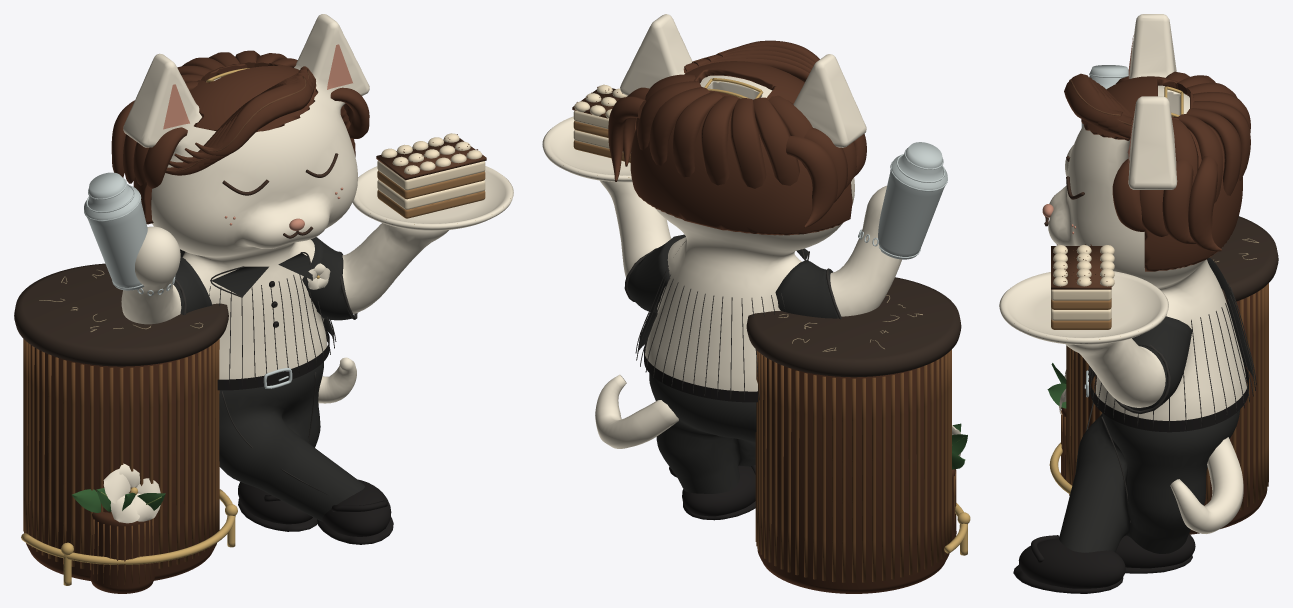
Rendered from pay-clink.v2.glb.
The picture shows the model from 3 angles, left to right: view 1: azimuth 30°, elevation 25°; view 2: azimuth 150°, elevation 25°; view 3: azimuth 270°, elevation 25°; orthographic projection. The views are drawn at different scales.
Parts seen in each view (by area): view 1: Clink | Ivory_Glaze, Clink | Walnut, Clink | Walnut_Ridges, Clink | Charcoal_Cloth, Clink | Chestnut_Hair, Clink | Marble, Clink | Black_Leather, Clink | Silver, Clink | Mascarpone, Clink | Antique_Gold, Clink | Seam_Charcoal, Clink | Coffee_Biscuit (+3 smaller); view 2: Clink | Ivory_Glaze, Clink | Chestnut_Hair, Clink | Walnut, Clink | Walnut_Ridges, Clink | Marble, Clink | Charcoal_Cloth, Clink | Silver, Clink | Black_Leather, Clink | Seam_Charcoal, Clink | Mascarpone, Clink | Antique_Gold, Clink | Coffee_Biscuit; view 3: Clink | Ivory_Glaze, Clink | Chestnut_Hair, Clink | Charcoal_Cloth, Clink | Black_Leather, Clink | Walnut_Ridges, Clink | Walnut, Clink | Marble, Clink | Mascarpone, Clink | Seam_Charcoal, Clink | Cocoa, Clink | Coffee_Biscuit, Clink | Silver (+2 smaller).
Part boxes in pixels (x1,y1,x2,y2): Clink | Ivory_Glaze: [103, 14, 513, 523]; Clink | Walnut: [26, 345, 216, 593]; Clink | Walnut_Ridges: [23, 339, 219, 585]; Clink | Charcoal_Cloth: [173, 237, 364, 521]; Clink | Chestnut_Hair: [111, 50, 369, 224]; Clink | Marble: [14, 263, 228, 366]; Clink | Black_Leather: [217, 281, 393, 544]; Clink | Silver: [84, 172, 292, 388]; Clink | Mascarpone: [377, 133, 485, 209]; Clink | Antique_Gold: [21, 68, 510, 585]; Clink | Seam_Charcoal: [174, 251, 357, 494]; Clink | Coffee_Biscuit: [377, 170, 485, 218]; Clink | Ivory_Glaze: [542, 14, 960, 456]; Clink | Chestnut_Hair: [608, 40, 866, 235]; Clink | Walnut: [757, 353, 956, 593]; Clink | Walnut_Ridges: [755, 349, 956, 582]; Clink | Marble: [746, 277, 961, 377]; Clink | Charcoal_Cloth: [627, 234, 838, 519]; Clink | Silver: [858, 142, 947, 259]; Clink | Black_Leather: [644, 342, 757, 520]; Clink | Seam_Charcoal: [624, 249, 841, 400]; Clink | Mascarpone: [573, 84, 627, 151]; Clink | Antique_Gold: [544, 78, 970, 555]; Clink | Coffee_Biscuit: [573, 121, 630, 162]; Clink | Ivory_Glaze: [999, 14, 1246, 533]; Clink | Chestnut_Hair: [1064, 71, 1250, 271]; Clink | Charcoal_Cloth: [1059, 257, 1254, 553]; Clink | Black_Leather: [1013, 365, 1248, 593]; Clink | Walnut_Ridges: [1061, 283, 1268, 510]; Clink | Walnut: [1060, 290, 1267, 534]; Clink | Marble: [1209, 216, 1278, 304]; Clink | Mascarpone: [1051, 245, 1114, 320]; Clink | Seam_Charcoal: [1086, 279, 1256, 522]; Clink | Cocoa: [1051, 244, 1111, 289]; Clink | Coffee_Biscuit: [1051, 298, 1111, 329]; Clink | Silver: [1081, 65, 1128, 397].
Size of the model in its own units: 0.9472 by 1 by 0.5043.
